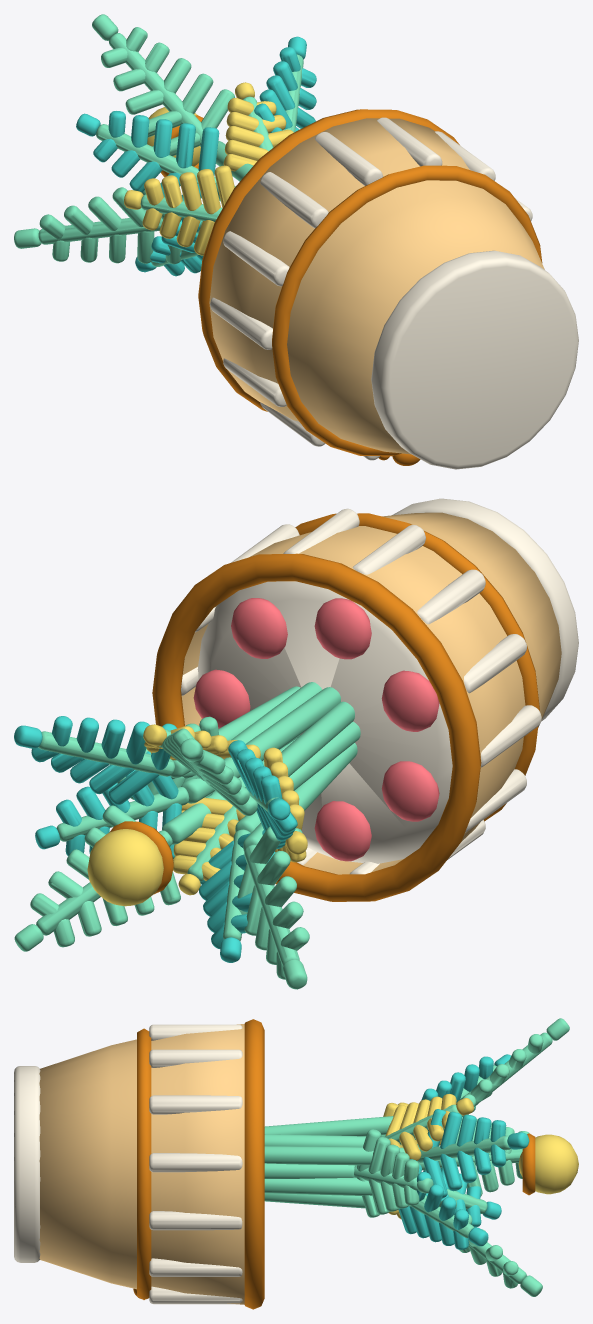
Rendered from PatioPottedFerns_Premium.fbx.
3 renders of one model, top to bottom at view 1: azimuth 30°, elevation 25°; view 2: azimuth 150°, elevation 25°; view 3: azimuth 270°, elevation 25°, orthographic. The views are drawn at different scales.
Parts seen in each view (by area): view 1: PatioPottedFerns; view 2: PatioPottedFerns; view 3: PatioPottedFerns.
Part boxes in pixels (x1,y1,x2,y2): PatioPottedFerns: (14, 14, 578, 469); PatioPottedFerns: (14, 498, 578, 989); PatioPottedFerns: (14, 1018, 578, 1309).
Bounding box in the file's own units: 0.5889 × 0.561 × 1.09.
